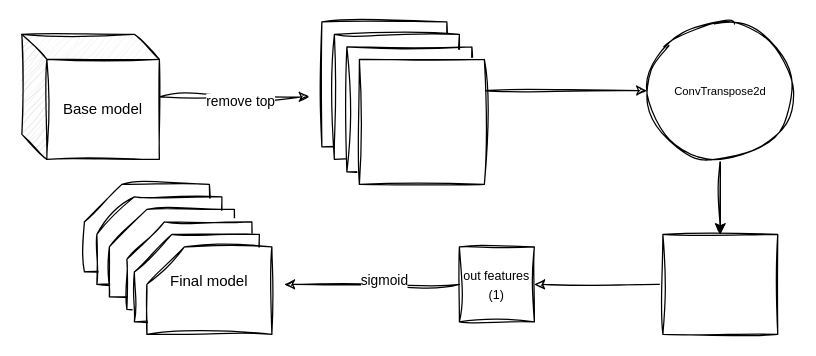
Some shapes in this 816 by 356 pixel diagram are drawn without their labels. Here are the shapes that lost their labels. From the top down, the centre of each, then its label:
At (421,121): "Encoder".
At (720,283): "in features (2048)".
